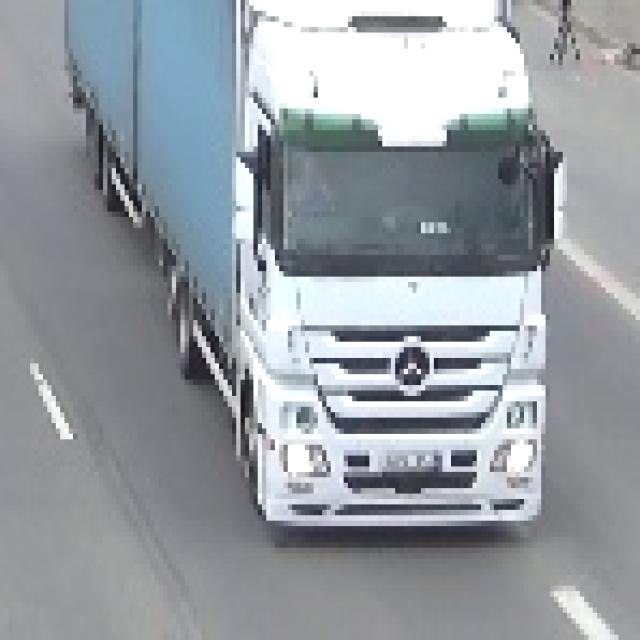TRUCK: (68, 8, 556, 545)
